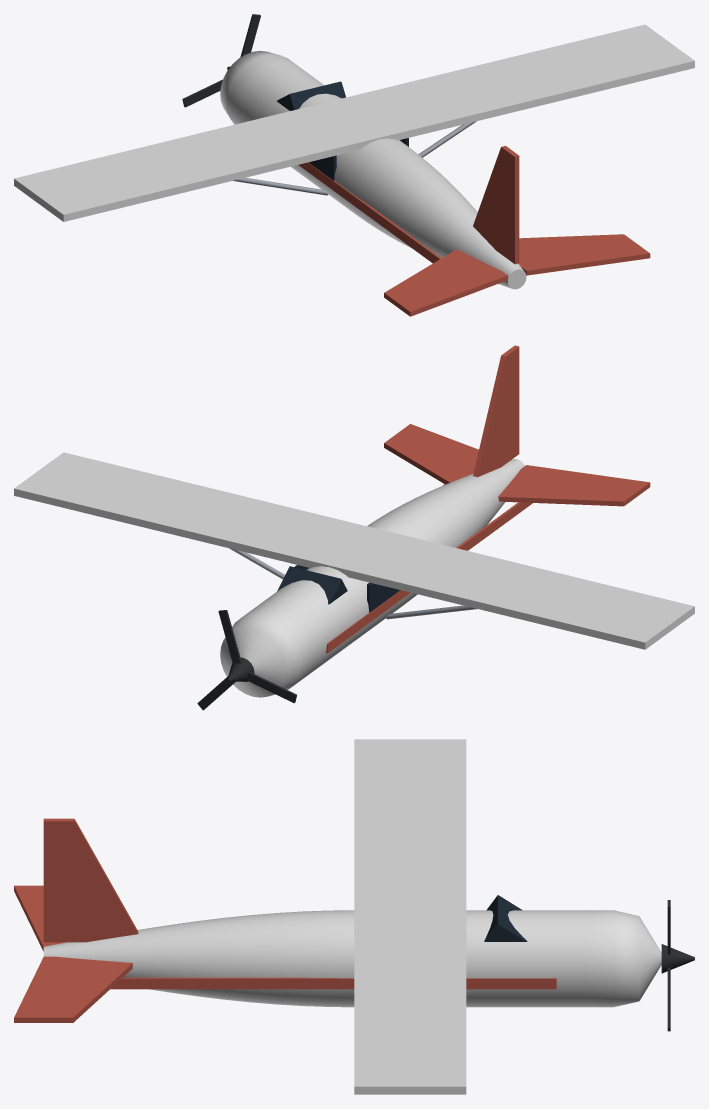
Rendered from vehicle_plane.glb.
The picture shows the model from 3 angles, top to bottom: view 1: azimuth 30°, elevation 25°; view 2: azimuth 150°, elevation 25°; view 3: azimuth 270°, elevation 25°; orthographic projection. The views are drawn at different scales.
Parts seen in each view (by area): view 1: plane; view 2: plane; view 3: plane.
Boxes of the visible parts, <box> form: plane: <box>14,14,694,316</box>; plane: <box>14,345,694,710</box>; plane: <box>14,739,694,1094</box>.
Size of the model in its own units: 7 by 1.8 by 5.8.
